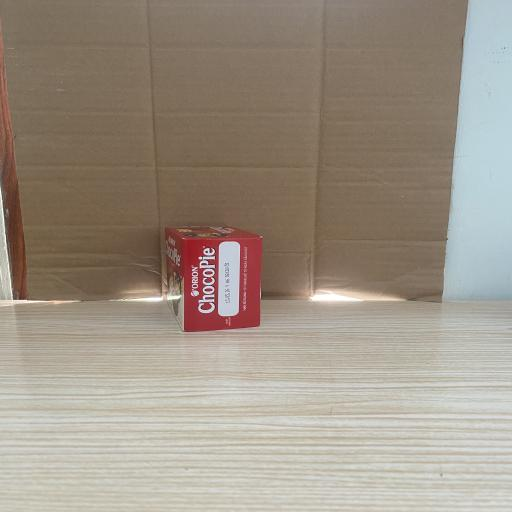chocopie: (165, 226, 262, 331)
